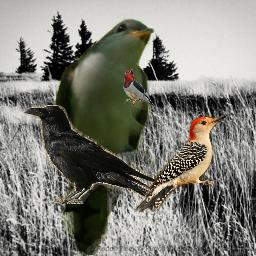Crow: (24, 105, 159, 204)
Cuckoo: (53, 18, 155, 255)
Woodpecker: (134, 115, 226, 214), (122, 67, 156, 110)
